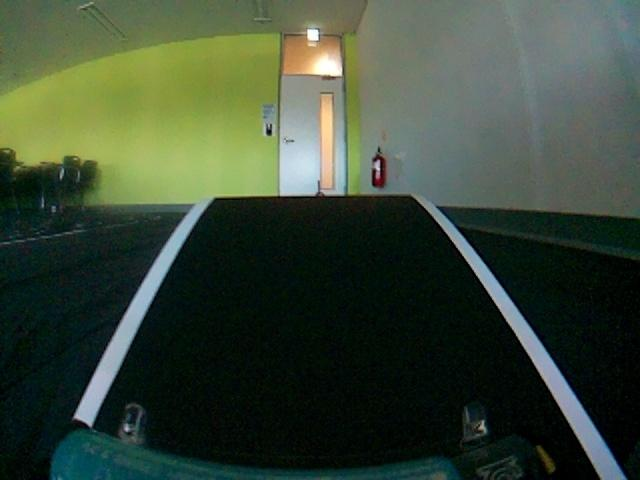hill_up: (62, 194, 602, 480)
